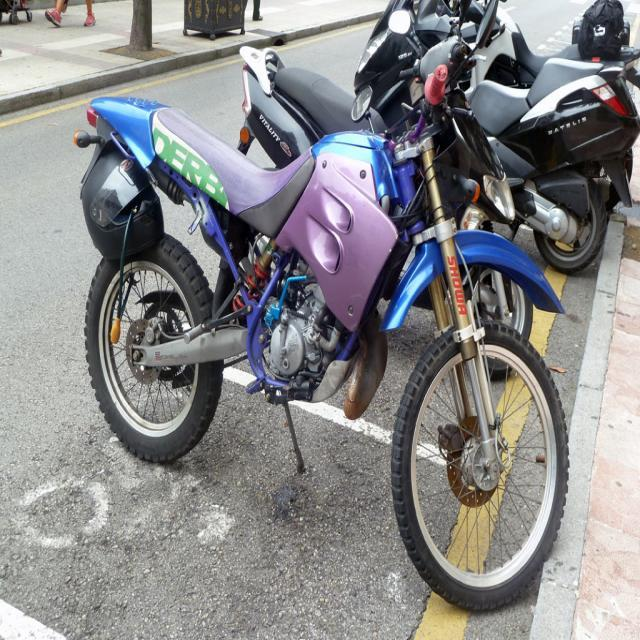bus: (73, 10, 571, 614), (233, 37, 532, 381), (349, 0, 639, 278)
